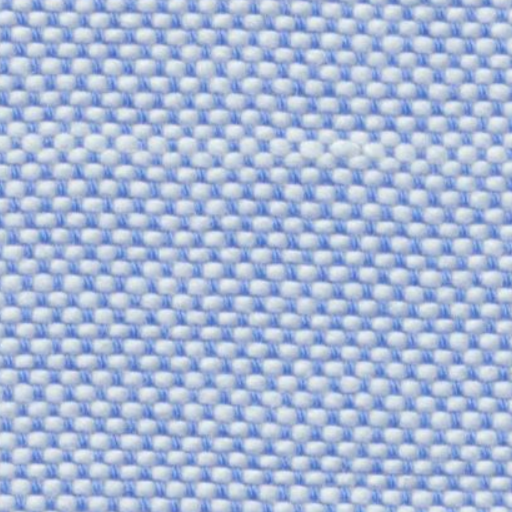TuoSha: (12, 94, 482, 220)
